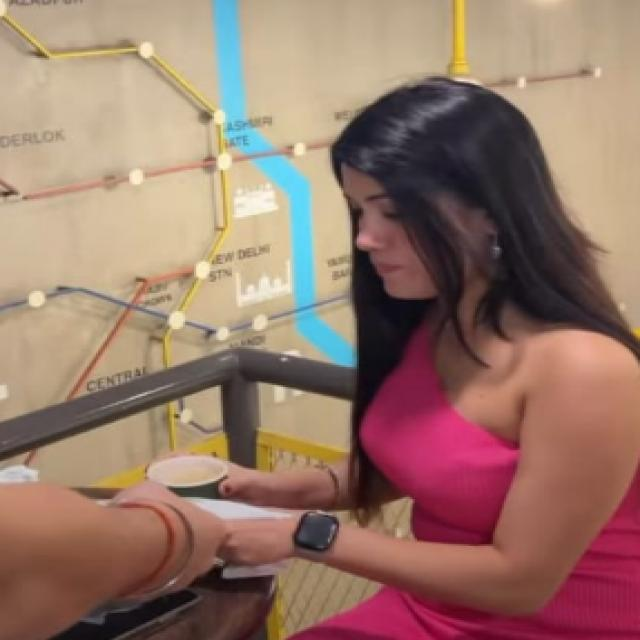Watch: (282, 504, 341, 566)
